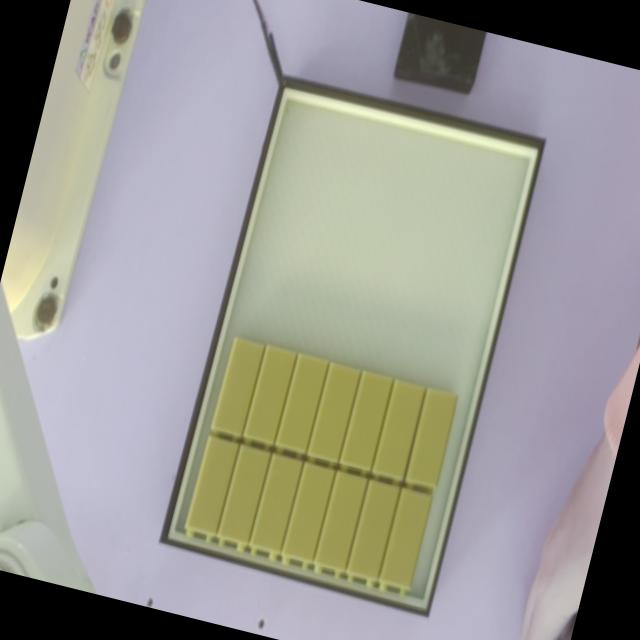bateria: (378, 490, 432, 595), (313, 473, 367, 578), (280, 464, 334, 569), (247, 454, 301, 559), (216, 446, 270, 551), (184, 437, 238, 542), (403, 386, 457, 491), (371, 379, 425, 484), (338, 372, 392, 477), (274, 353, 328, 458), (241, 346, 295, 451), (208, 338, 262, 443), (345, 482, 399, 586), (306, 363, 360, 467)
mesa: (158, 75, 546, 617)
